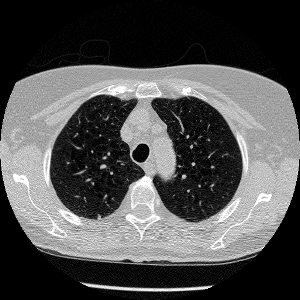nodule: (97, 215, 101, 219)
